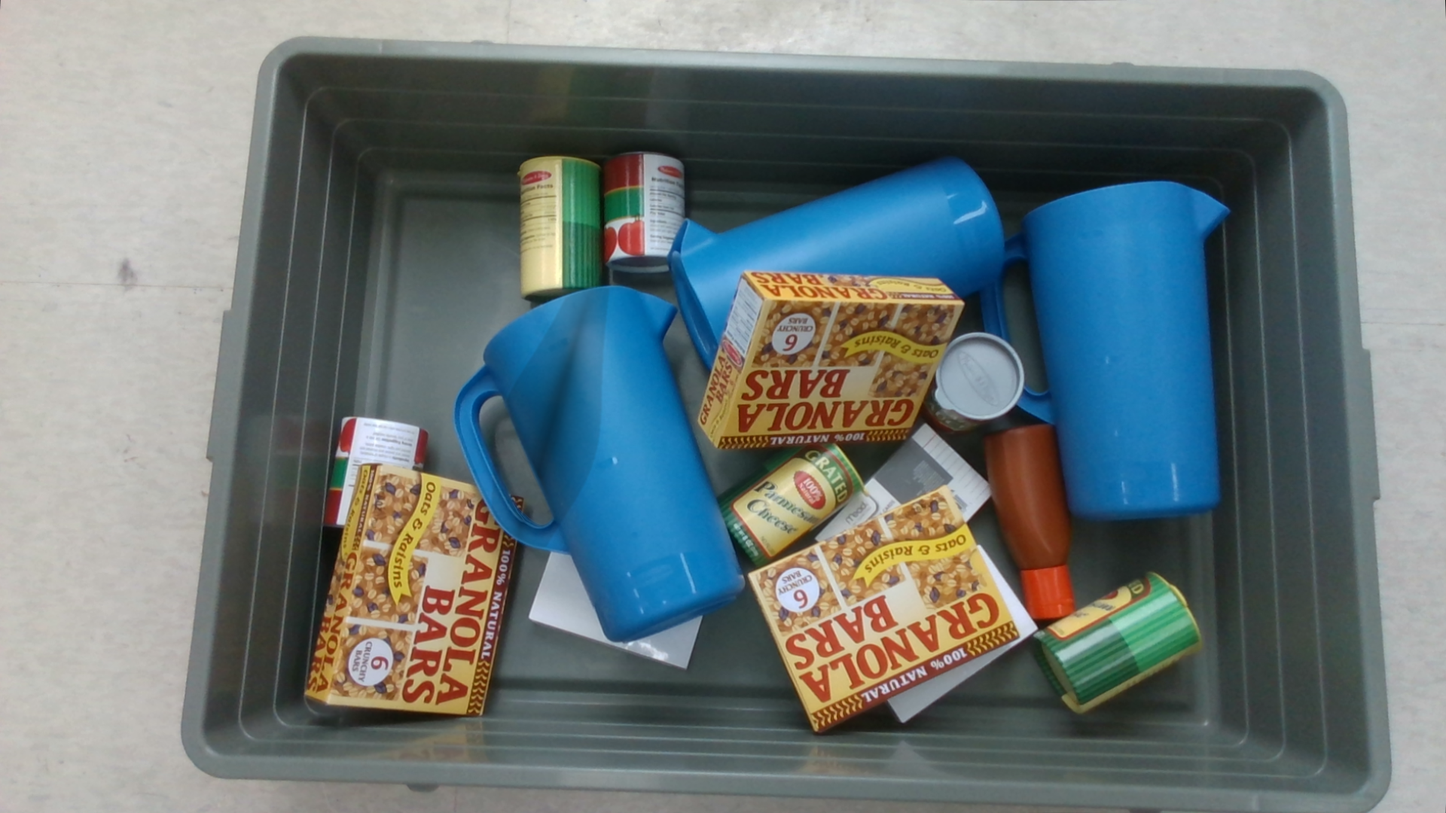defect: (492, 288, 609, 548)
